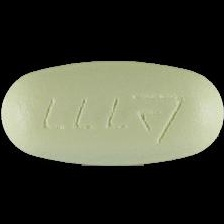0591-2805: (0, 0, 224, 224)
